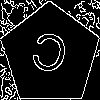C: (25, 30, 71, 85)
